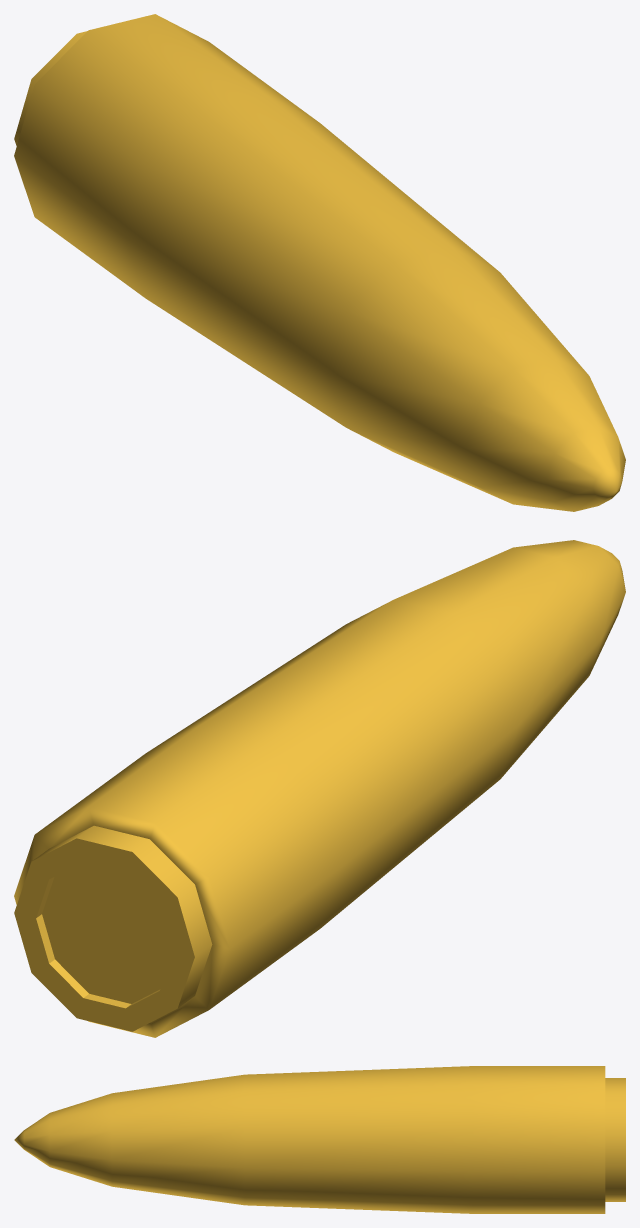
The model's file is rocket.fbx.
The picture shows the model from 3 angles, top to bottom: view 1: azimuth 30°, elevation 25°; view 2: azimuth 150°, elevation 25°; view 3: azimuth 270°, elevation 25°; orthographic projection. The views are drawn at different scales.
Visible parts, largest first — view 1: Rocket; view 2: Rocket; view 3: Rocket.
Part boxes in pixels (<box>): Rocket: <box>14,14,625,511</box>; Rocket: <box>14,540,625,1037</box>; Rocket: <box>14,1066,625,1213</box>.
Size of the model in its own units: 0.9175 by 0.8726 by 3.77.
